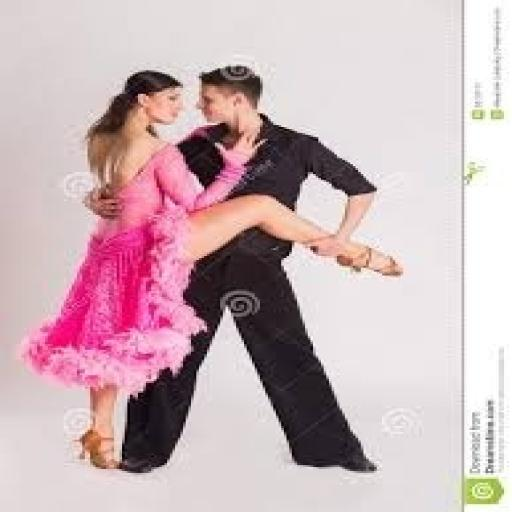dancing: (74, 53, 479, 481)
